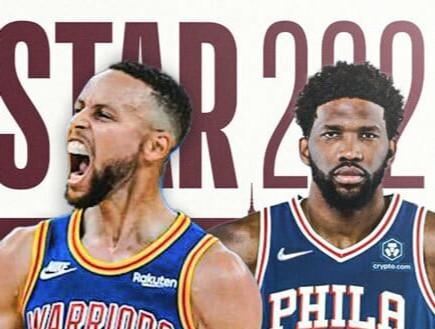normal: (287, 46, 410, 221)
raiva: (53, 43, 201, 223)
